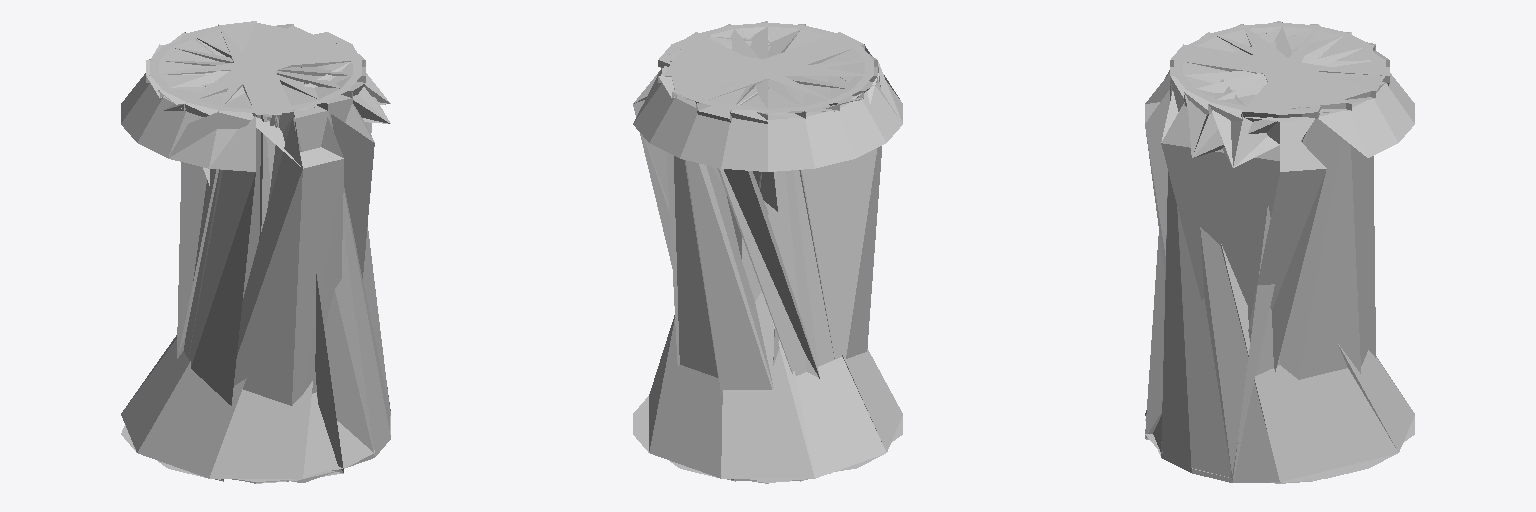
Rendered from Purple can.obj.
3 views of the same model, side by side, from view 1: azimuth 30°, elevation 25°; view 2: azimuth 150°, elevation 25°; view 3: azimuth 270°, elevation 25° (orthographic).
Parts seen in each view (by area): view 1: Cylinder001; view 2: Cylinder001; view 3: Cylinder001.
Part boxes in pixels (bbox=[...]): Cylinder001: bbox=[121, 21, 390, 483]; Cylinder001: bbox=[633, 21, 902, 483]; Cylinder001: bbox=[1145, 21, 1414, 483].
Bounding box in the file's own units: 223178 × 337434 × 219787.